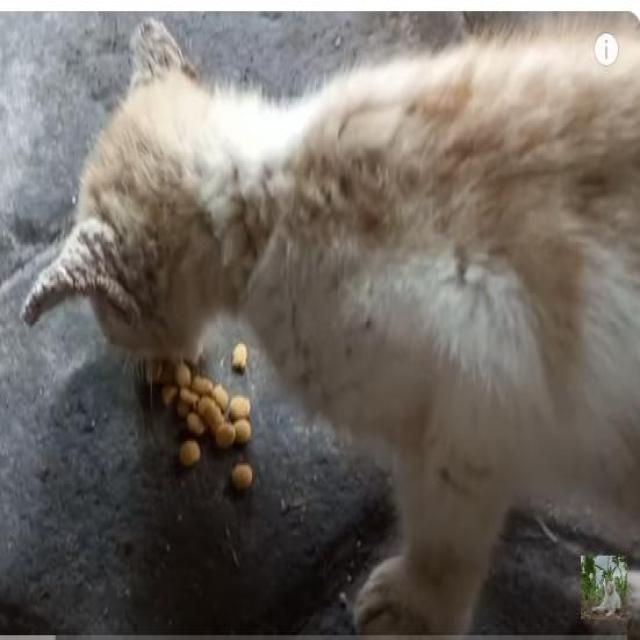ghe: (21, 255, 156, 342)
